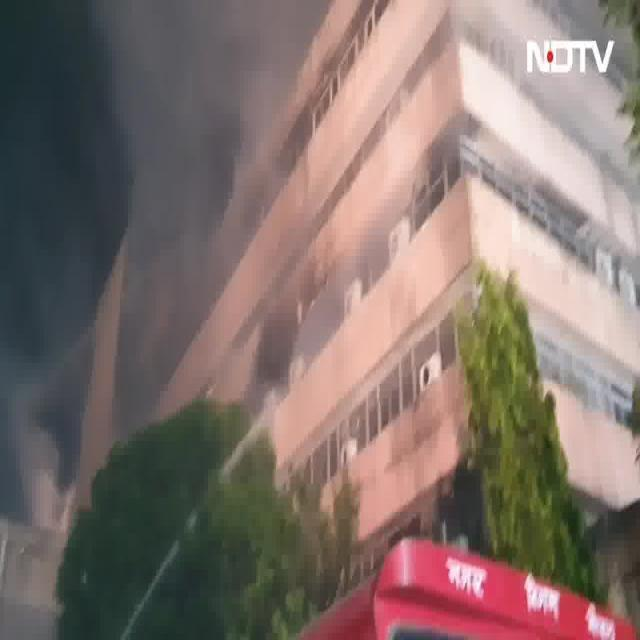Fire: (11, 11, 249, 288)
